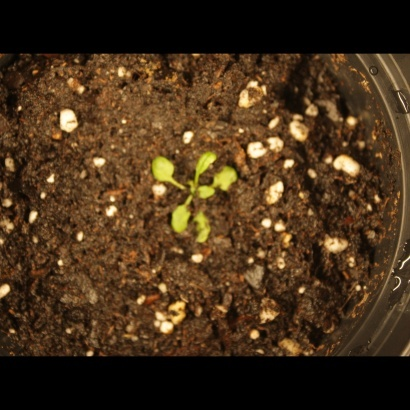leaf: (147, 151, 179, 185), (190, 147, 218, 184), (191, 204, 214, 248), (214, 162, 241, 196), (169, 202, 192, 239), (195, 184, 218, 207)
